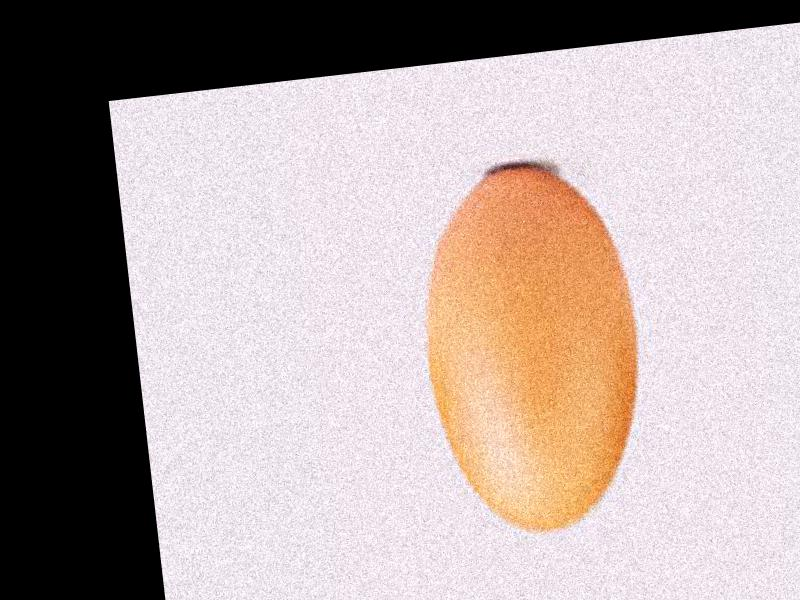Eggs: (410, 153, 656, 548)
